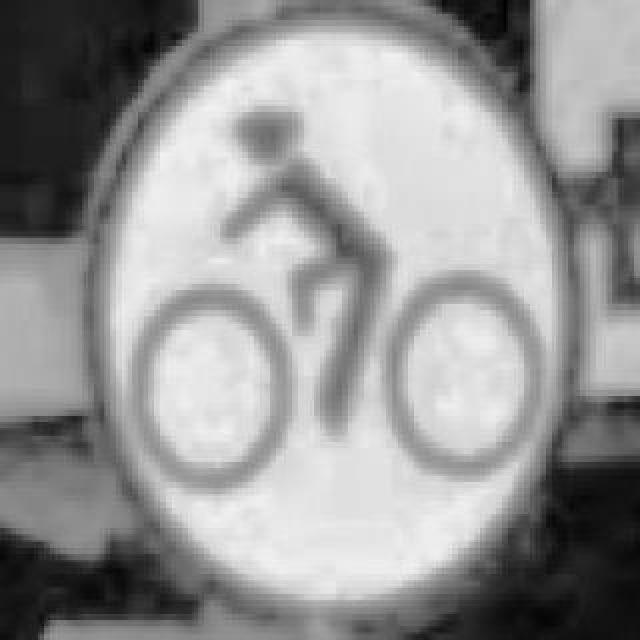bike lane: (78, 8, 580, 620)
